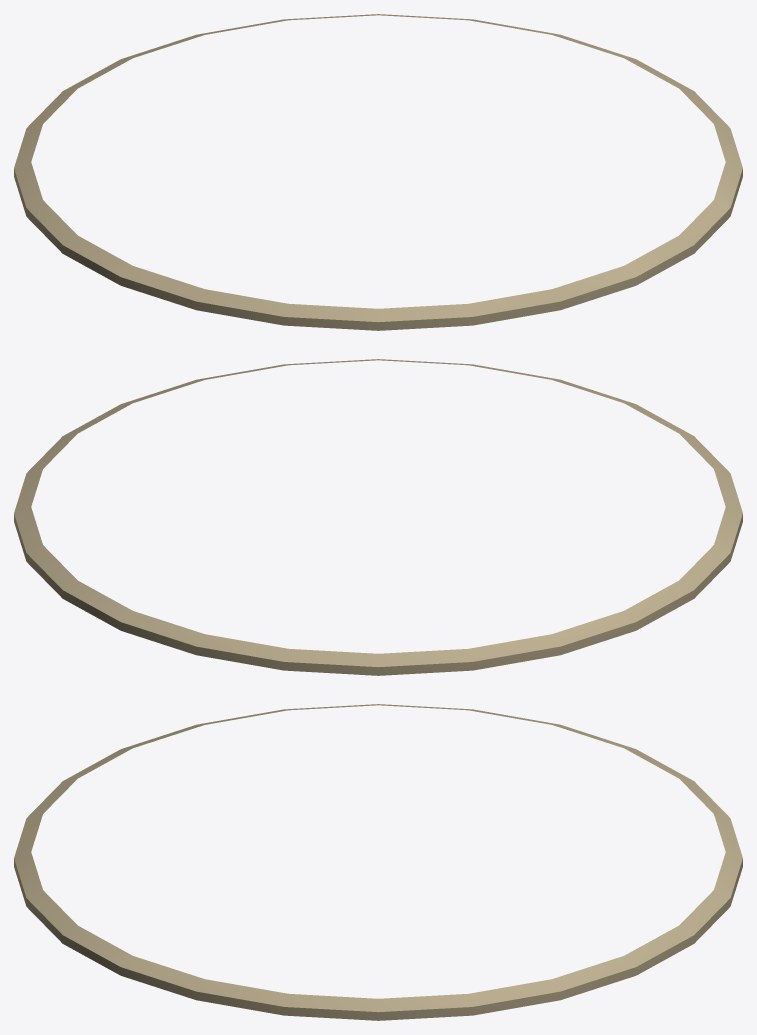
File: dome.trim_bottom.plaster.glb
The picture shows the model from 3 angles, top to bottom: view 1: azimuth 30°, elevation 25°; view 2: azimuth 150°, elevation 25°; view 3: azimuth 270°, elevation 25°; orthographic projection.
Visible parts, largest first — view 1: dome_trim_bottom_plaster; view 2: dome_trim_bottom_plaster; view 3: dome_trim_bottom_plaster.
Boxes of the visible parts, x1=… form: dome_trim_bottom_plaster: x1=14, y1=14, x2=742, y2=330; dome_trim_bottom_plaster: x1=14, y1=359, x2=742, y2=675; dome_trim_bottom_plaster: x1=14, y1=704, x2=742, y2=1020.
Size of what is drawn, in the model's own units: 7.6 by 0.17 by 7.6.
